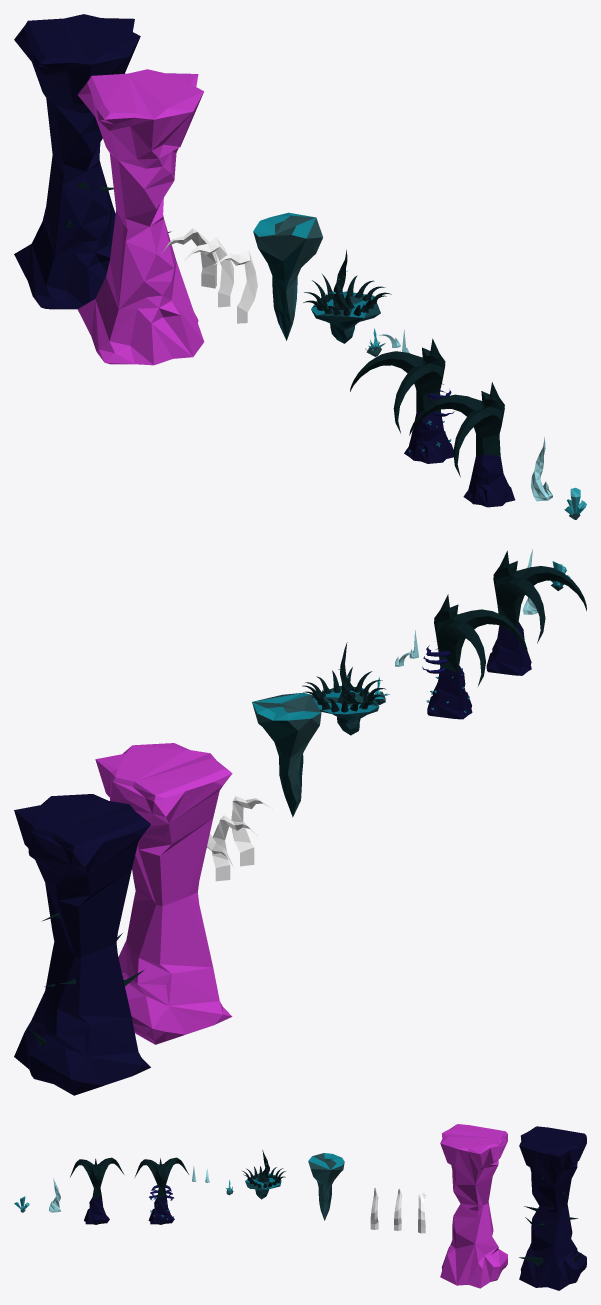
The model's file is kristal.FBX.
The picture shows the model from 3 angles, top to bottom: view 1: azimuth 30°, elevation 25°; view 2: azimuth 150°, elevation 25°; view 3: azimuth 270°, elevation 25°; orthographic projection. The views are drawn at different scales.
Parts seen in each view (by area): view 1: kri10, kr11, kri3_1, kri3, kri8, kri7, kri9, kri9_1, kri9_2; view 2: kr11, kri10, kri3, kri3_1, kri8, kri7, kri9, kri9_1; view 3: kr11, kri10, kri3, kri8, kri3_1, kri7, kri9_2, kri9_1, kri9.
Boxes of the visible parts, <box> form: kri10: <box>77,69,204,365</box>; kr11: <box>14,14,170,309</box>; kri3_1: <box>409,382,515,507</box>; kri3: <box>350,338,454,463</box>; kri8: <box>253,212,322,340</box>; kri7: <box>303,249,391,343</box>; kri9: <box>214,250,257,323</box>; kri9_1: <box>184,237,233,307</box>; kri9_2: <box>161,228,217,288</box>; kr11: <box>14,794,150,1095</box>; kri10: <box>95,743,232,1044</box>; kri3: <box>422,594,527,719</box>; kri3_1: <box>486,550,586,675</box>; kri8: <box>252,692,321,817</box>; kri7: <box>302,642,386,735</box>; kri9: <box>231,796,271,866</box>; kri9_1: <box>212,815,257,881</box>; kr11: <box>519,1126,586,1290</box>; kri10: <box>440,1124,507,1288</box>; kri3: <box>134,1157,188,1224</box>; kri8: <box>308,1153,344,1220</box>; kri3_1: <box>70,1157,124,1224</box>; kri7: <box>242,1150,285,1199</box>; kri9_2: <box>418,1192,425,1233</box>; kri9_1: <box>394,1189,402,1230</box>; kri9: <box>370,1187,378,1229</box>.
Size of the model in its own units: 150 by 284 by 1078.
